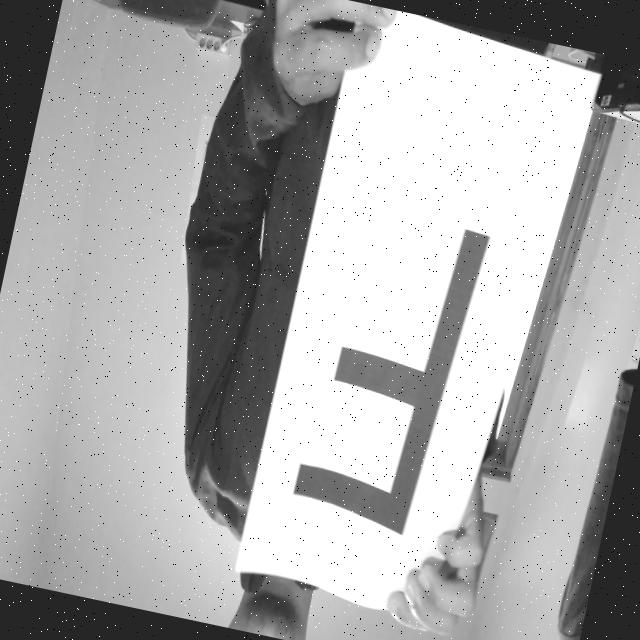f: (262, 169, 506, 556)
